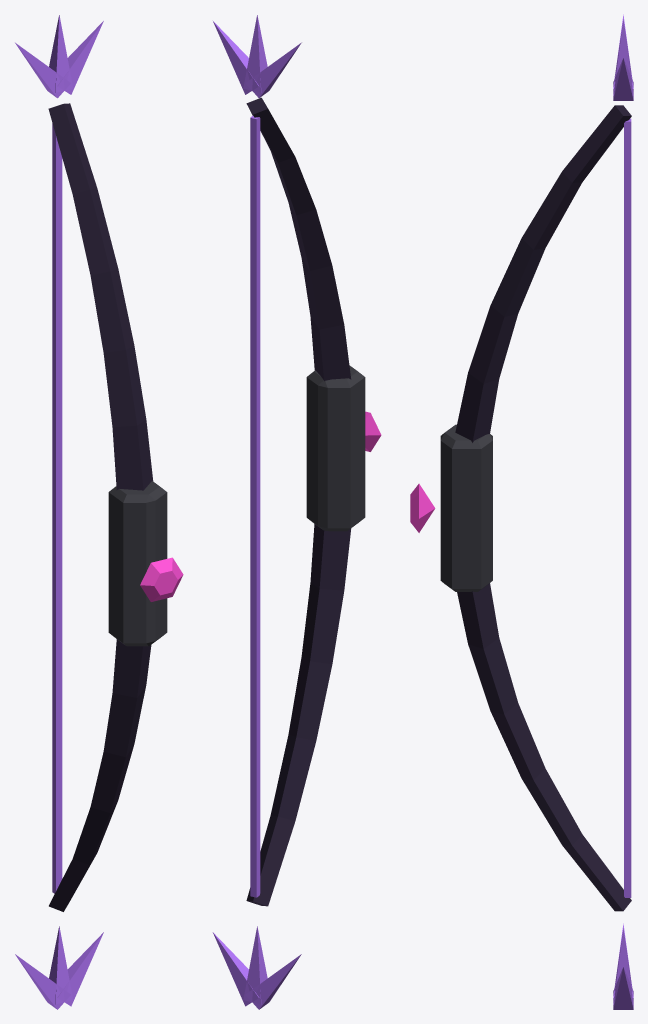
The model's file is ShadowBow.fbx.
The picture shows the model from 3 angles, left to right: view 1: azimuth 30°, elevation 25°; view 2: azimuth 150°, elevation 25°; view 3: azimuth 270°, elevation 25°; orthographic projection.
Parts seen in each view (by area): view 1: ShadowBow; view 2: ShadowBow; view 3: ShadowBow.
Part boxes in pixels (x1,y1,x2,y2): ShadowBow: (15,15,183,1009); ShadowBow: (212,15,381,1009); ShadowBow: (410,14,633,1009).
Bounding box in the file's own units: 0.4949 × 5.22 × 1.07.
Materials: 1 (1 with a texture image).
